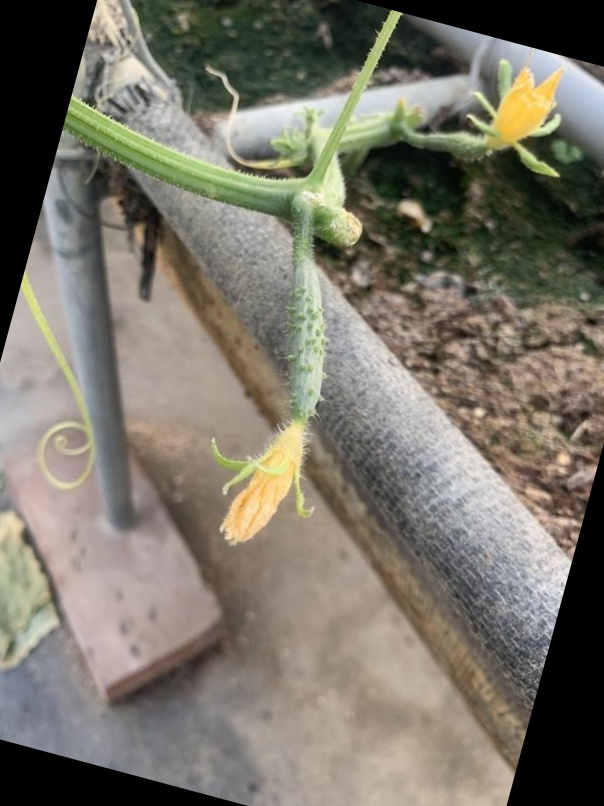bear: (202, 236, 351, 547), (409, 59, 563, 184)
